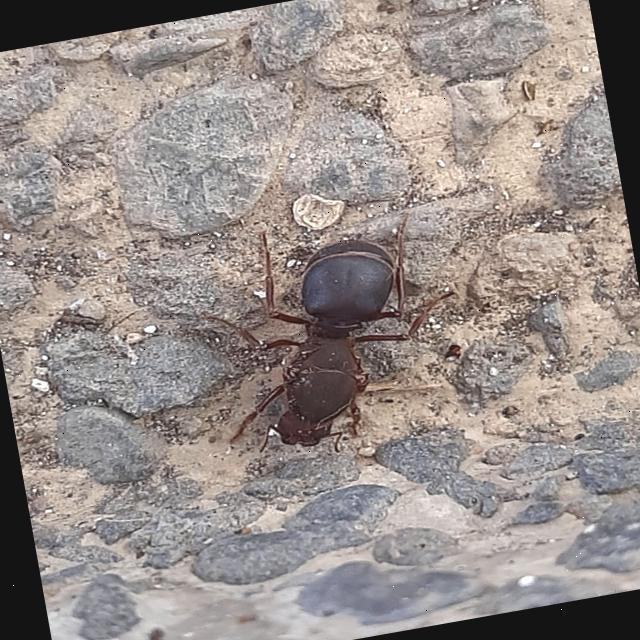Alive-Female-Dealate: (194, 202, 478, 470)
